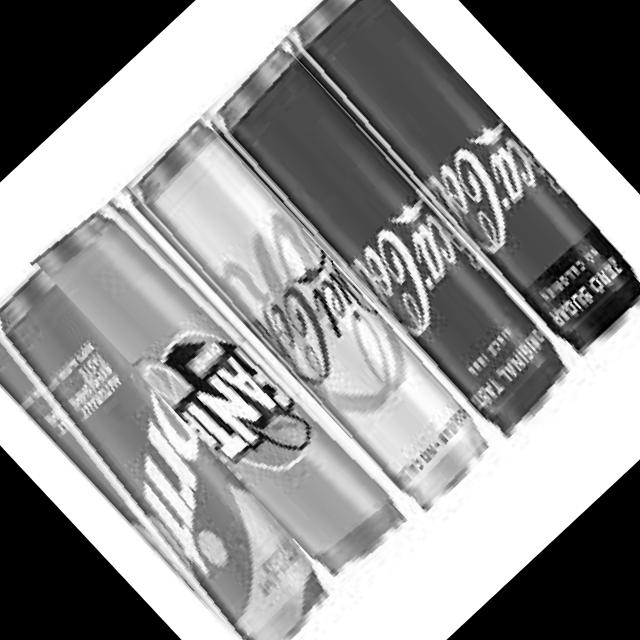Cans: (25, 180, 427, 600), (188, 32, 586, 448), (112, 111, 502, 517), (268, 0, 640, 367), (0, 260, 342, 640)
